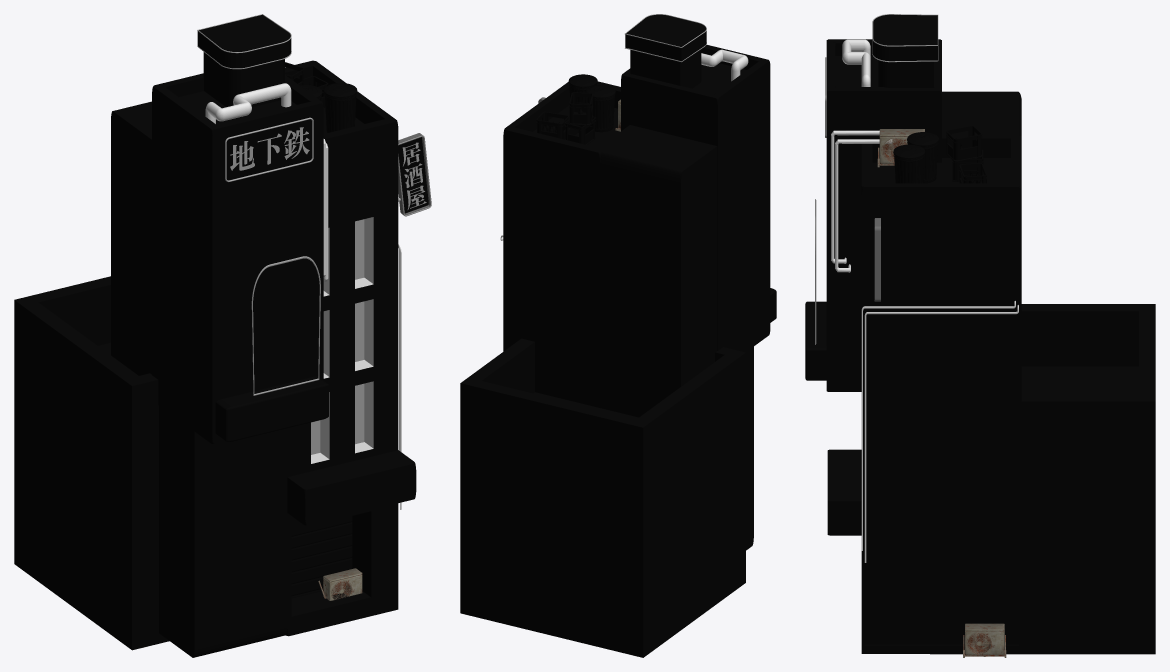
Rendered from building1.fbx.
3 renders of one model, left to right at view 1: azimuth 30°, elevation 25°; view 2: azimuth 150°, elevation 25°; view 3: azimuth 270°, elevation 25°, orthographic. The views are drawn at different scales.
Visible parts, largest first — view 1: 立方体.005, 立方体.004, 立方体.017, 立方体.001, 立方体, 立方体.003, 立方体.007, 立方体.006, kanvban, 立方体.014, 円柱.001, situgaiki.001 (+3 smaller); view 2: 立方体.017, 立方体.005, 立方体.004, 立方体.001, 円柱.003, 立方体.014, 立方体.009, 立方体.008, 立方体.011, 円柱.001; view 3: 立方体.005, 立方体.017, 立方体.004, 立方体.001, 立方体, situgaiki.003, 立方体.013, 円柱.001, 立方体.009, 立方体.012, 立方体.014, situgaiki.002 (+3 smaller).
Part boxes in pixels (x1,y1,x2,y2): 立方体.005: (111,60,416,657); 立方体.004: (152,73,323,443); 立方体.017: (14,276,169,650); 立方体.001: (197,15,291,107); 立方体: (215,376,328,441); 立方体.003: (291,516,352,598); 立方体.007: (311,217,373,463); 立方体.006: (311,219,364,454); kanvban: (398,133,431,216); 立方体.014: (205,83,291,123); 円柱.001: (324,83,357,132); situgaiki.001: (318,568,362,600); 立方体.017: (460,338,745,657); 立方体.005: (503,81,753,550); 立方体.004: (621,45,770,352); 立方体.001: (625,14,706,88); 円柱.003: (586,85,615,132); 立方体.014: (701,49,748,81); 立方体.009: (569,92,593,125); 立方体.008: (564,116,595,144); 立方体.011: (536,111,569,139); 円柱.001: (568,74,597,102); 立方体.005: (827,91,1021,653); 立方体.017: (930,304,1155,654); 立方体.004: (826,39,941,391); 立方体.001: (872,14,937,87); 立方体: (805,301,826,380); situgaiki.003: (963,623,1006,657); 立方体.013: (864,305,1018,562); 円柱.001: (893,144,925,183); 立方体.009: (946,125,982,161); 立方体.012: (861,301,1015,550); 立方体.014: (842,39,870,86); situgaiki.002: (877,129,924,167).
Bounding box in the file's own units: 488 × 1033 × 571.
